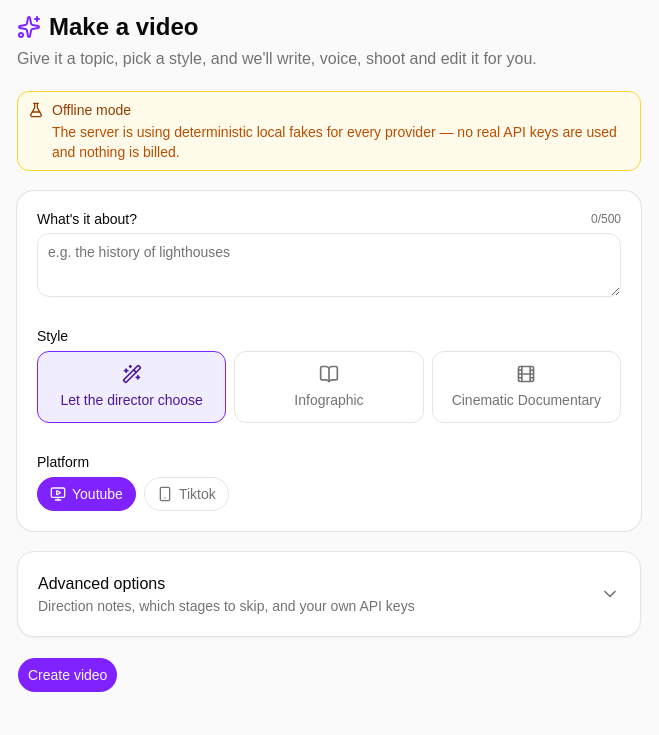
Scenario: Home › shows the API validation error inline instead of navigating
The width and height of the screenshot is (659, 735).
In the text box labelled "What's it about?": (329, 265) top-left (37, 233), bottom-right (621, 297), type "a topic that will fail validation"
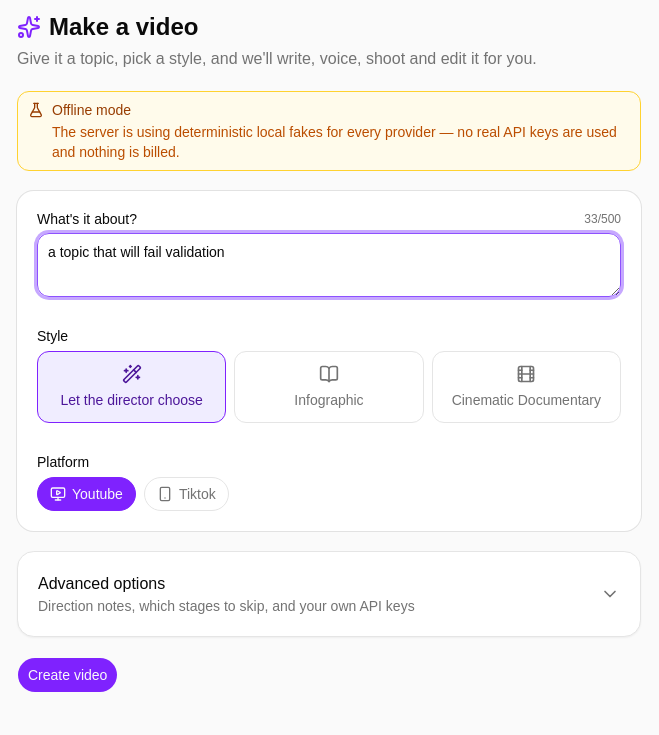
Click the button "Create video": (68, 675) top-left (17, 657), bottom-right (118, 693)
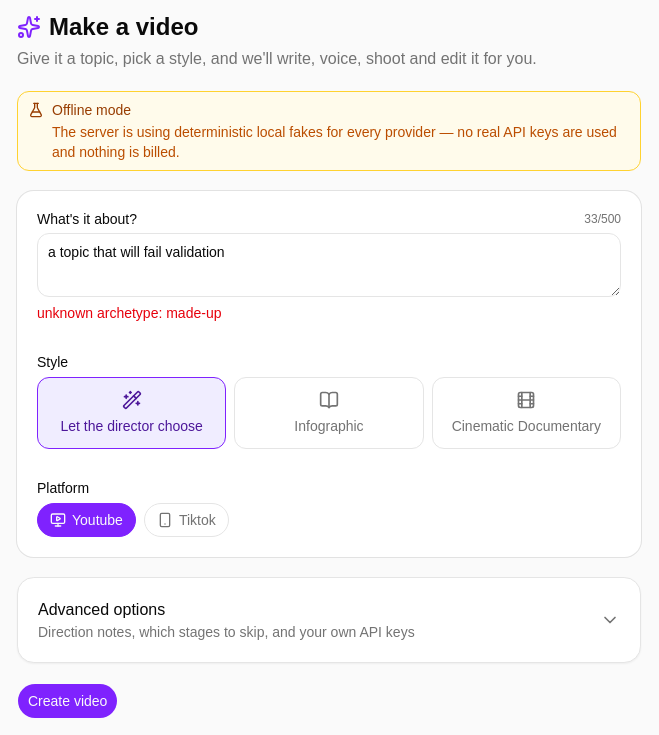
Expected: the text "unknown archetype: made-up" is shown, top-left (37, 305), bottom-right (222, 321)
